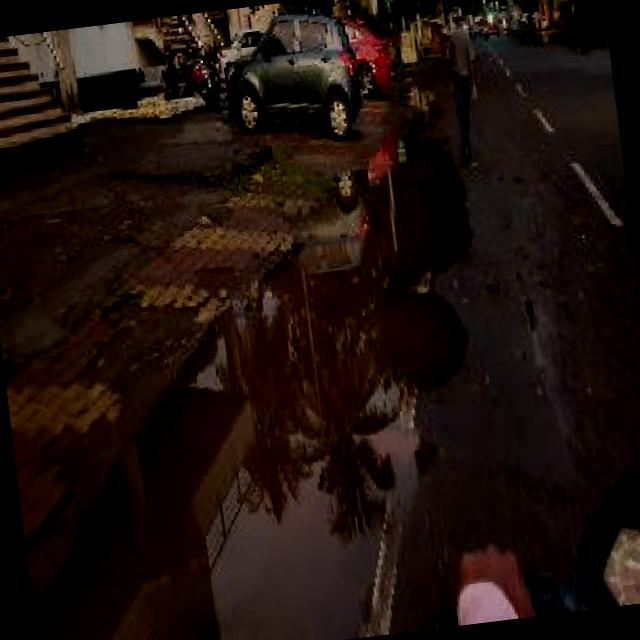stagnation: (219, 239, 455, 640)
